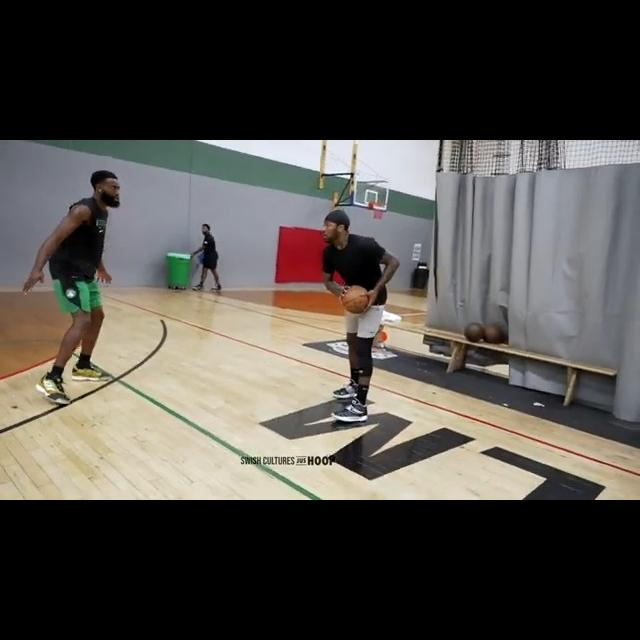basketball: (342, 285, 371, 315), (464, 322, 485, 343), (485, 325, 503, 345)
hoop: (372, 202, 385, 221)
person: (22, 168, 127, 406), (312, 207, 401, 421), (191, 222, 226, 295)
